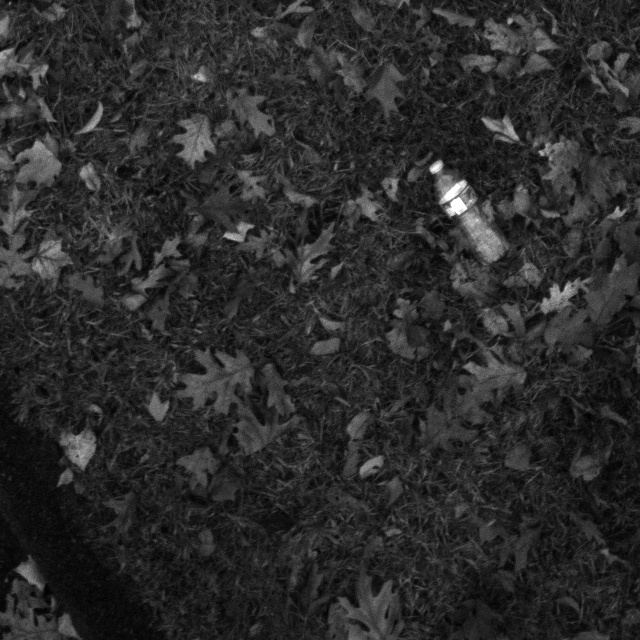bottle: (409, 145, 517, 276)
